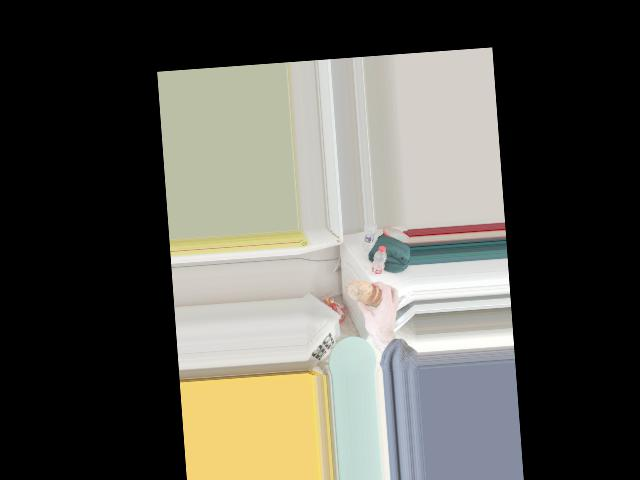sweet_potato: (352, 278, 382, 308)
